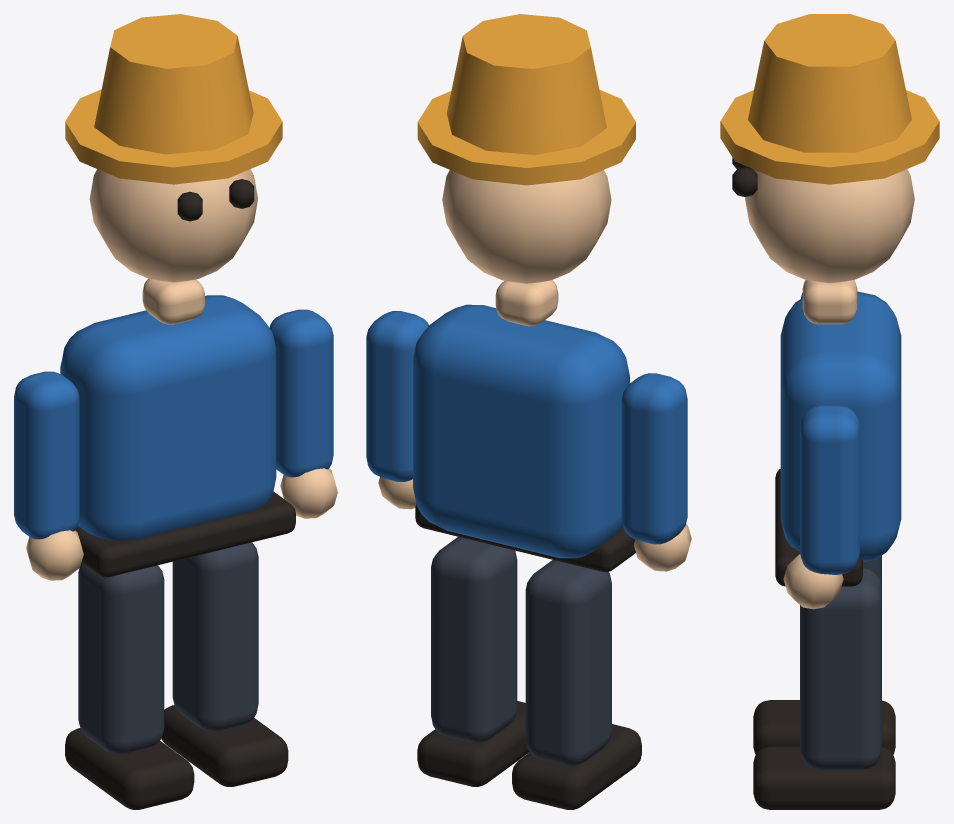
File: worker.glb
The picture shows the model from 3 angles, left to right: view 1: azimuth 30°, elevation 25°; view 2: azimuth 150°, elevation 25°; view 3: azimuth 270°, elevation 25°; orthographic projection.
Size of the model in its own units: 0.65 by 1.48 by 0.4.
